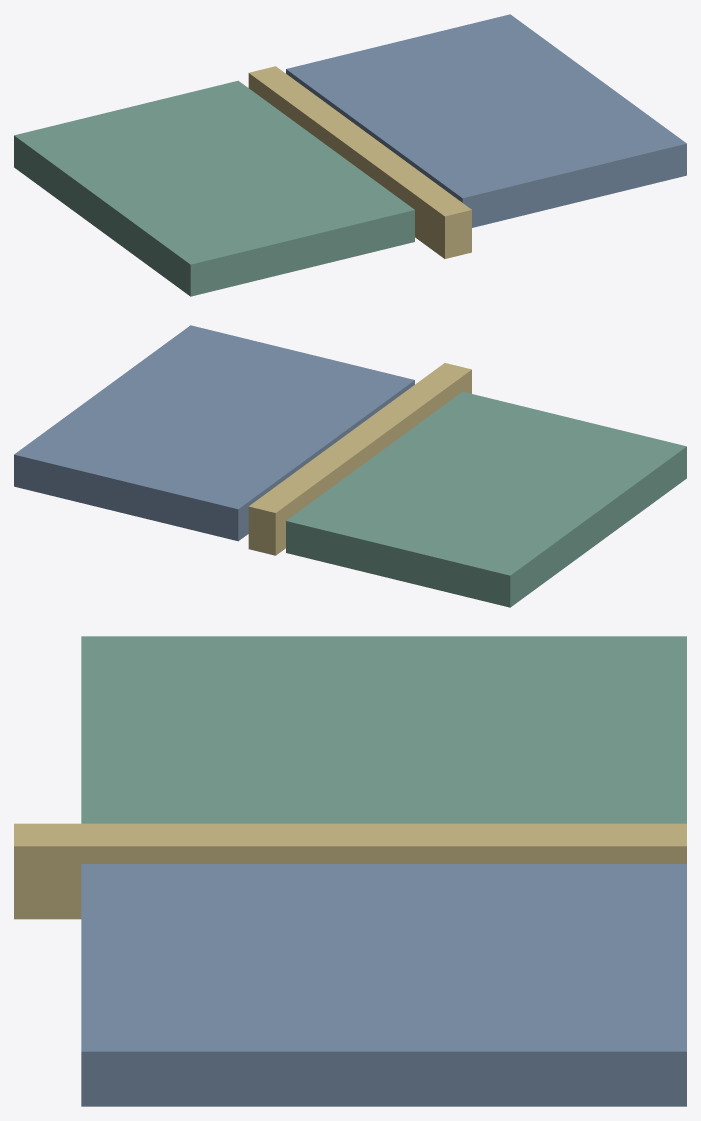
Rendered from compare-board-high.glb.
3 renders of one model, top to bottom at view 1: azimuth 30°, elevation 25°; view 2: azimuth 150°, elevation 25°; view 3: azimuth 270°, elevation 25°, orthographic. The views are drawn at different scales.
Visible parts, largest first — view 1: left, right, divider; view 2: left, right, divider; view 3: right, left, divider.
Boxes of the visible parts, <box> form: left: <box>14,80,414,296</box>; right: <box>286,14,686,227</box>; divider: <box>248,66,471,258</box>; left: <box>286,391,686,607</box>; right: <box>14,325,414,541</box>; divider: <box>248,363,471,555</box>; right: <box>81,864,686,1106</box>; left: <box>81,636,686,823</box>; divider: <box>14,823,686,919</box>.
Bounding box in the file's own units: 1.46 × 0.12 × 1.
